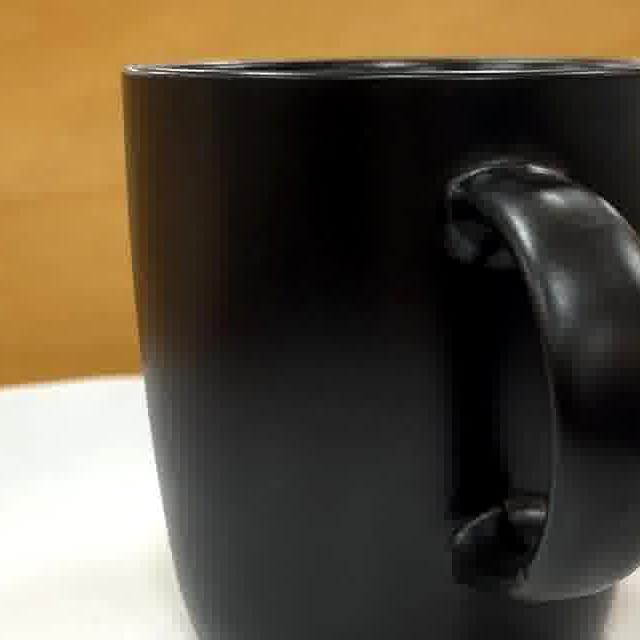cup: (128, 61, 640, 640)
